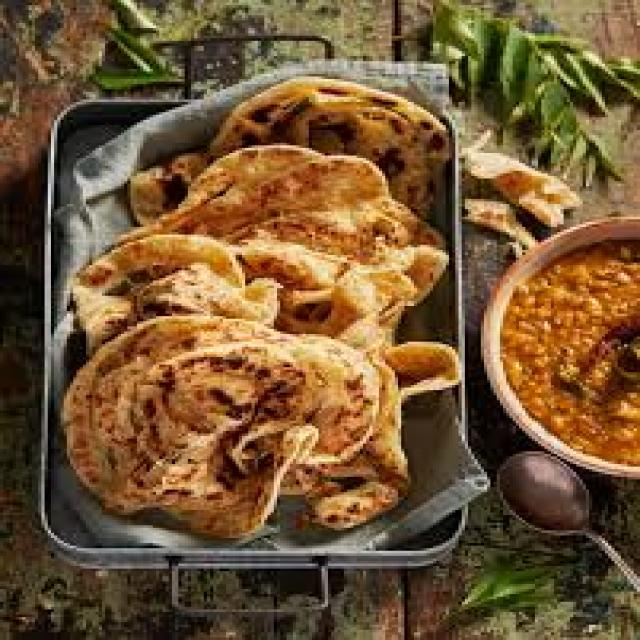Paratha: (86, 328, 477, 580), (152, 74, 444, 278), (126, 240, 417, 374)
